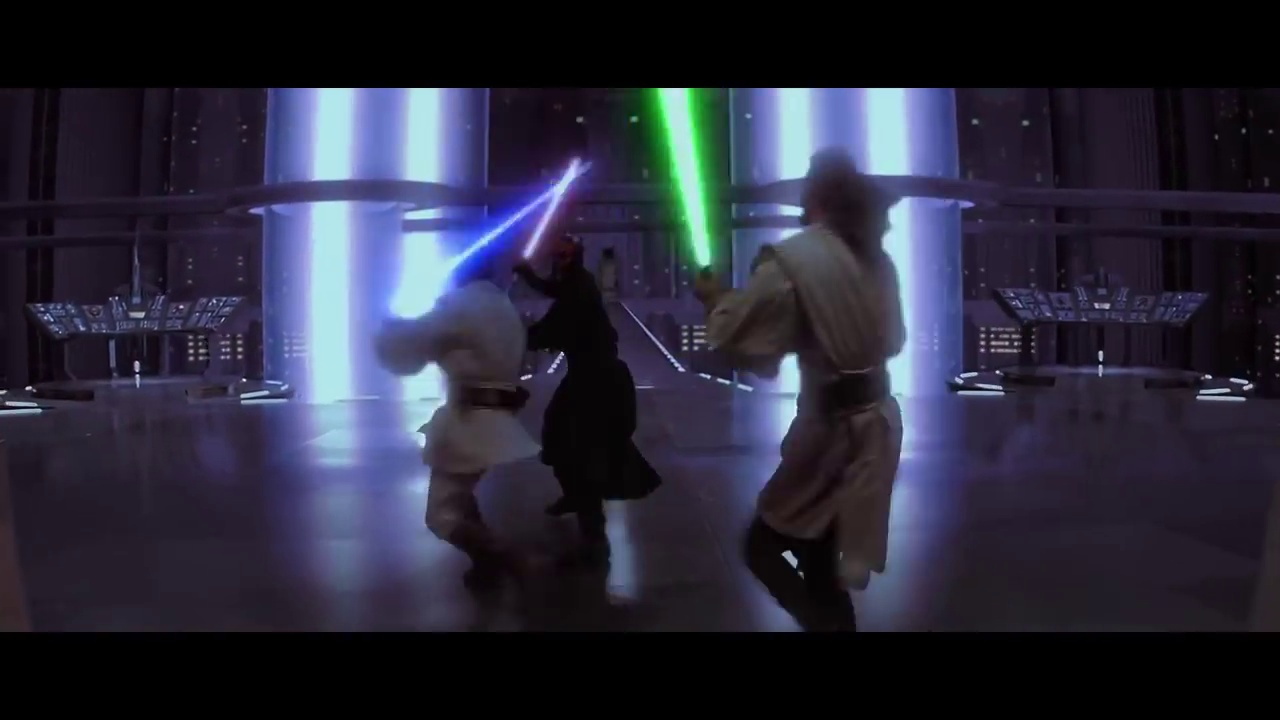lightsaber: (427, 147, 593, 282), (640, 86, 720, 288), (513, 150, 582, 286)
